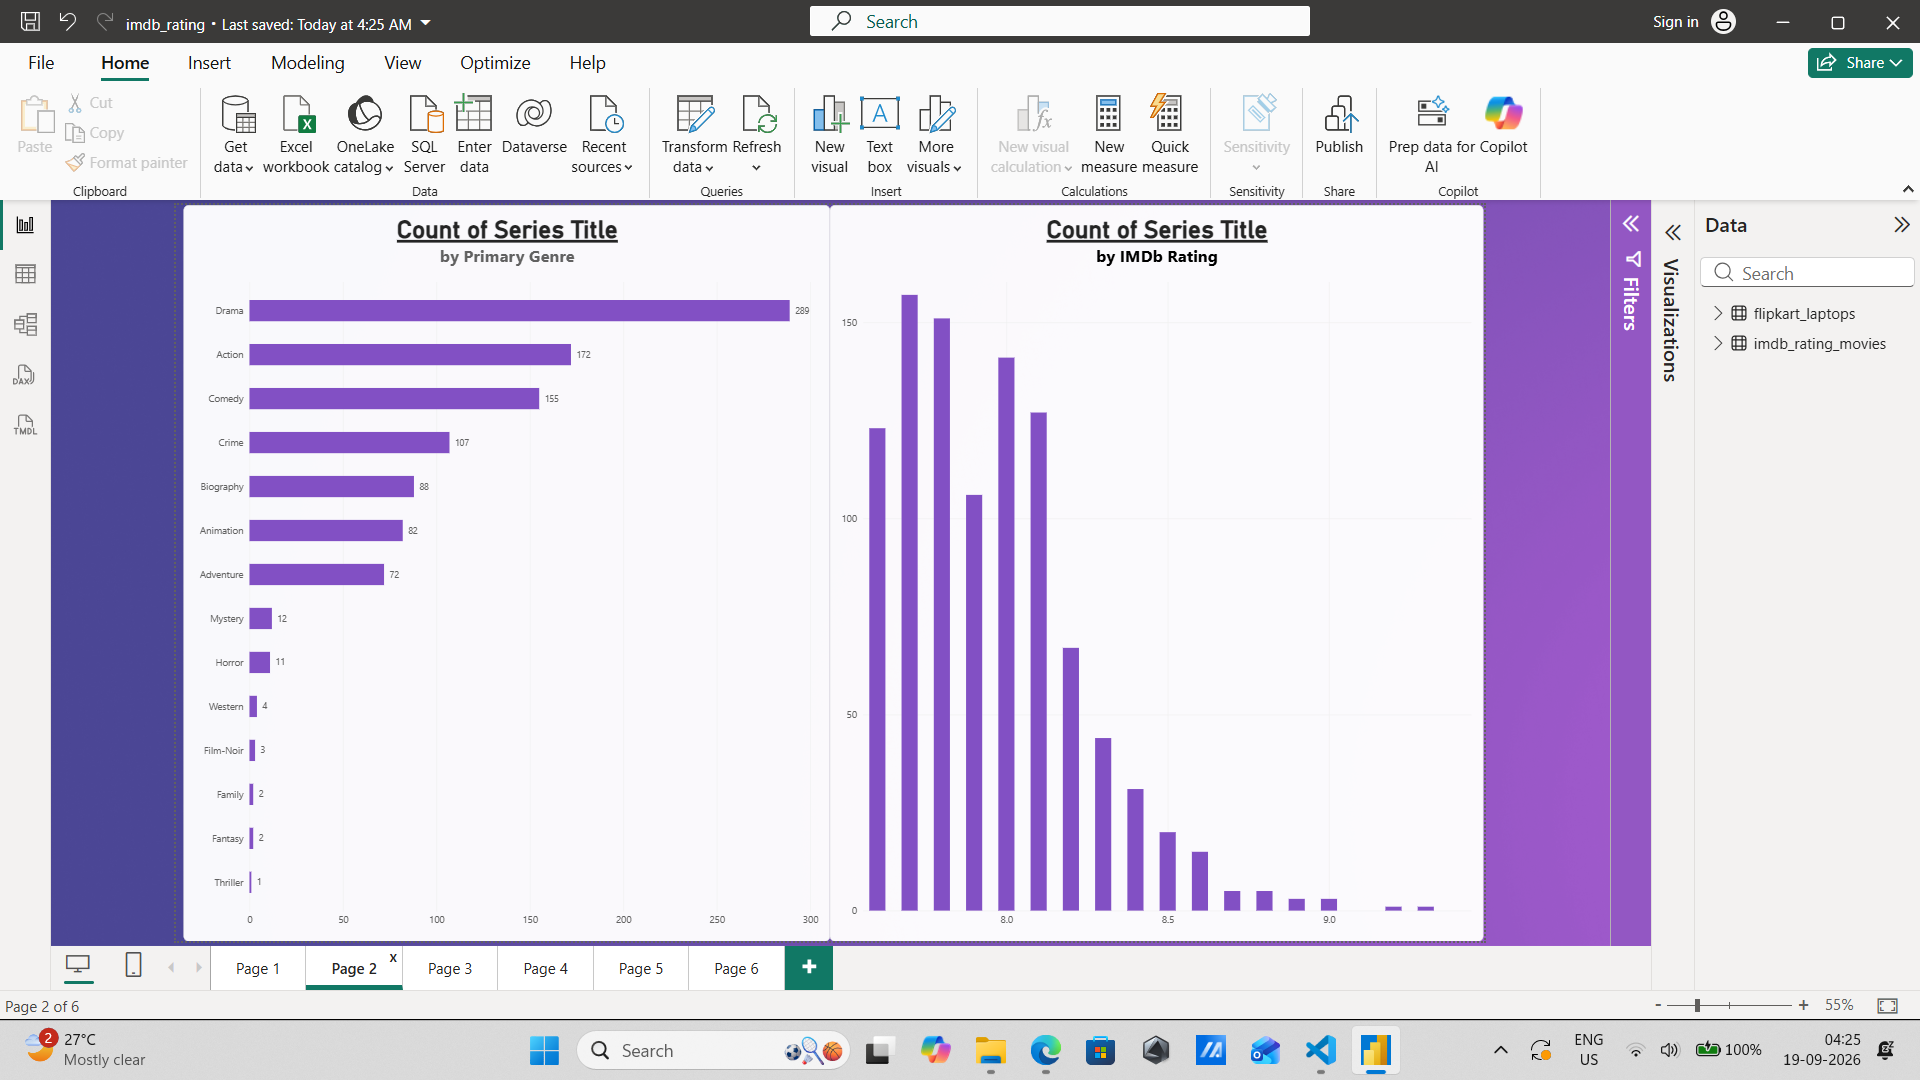

This screenshot's page, from the dashboard's own definition file:
{"tool":"powerbi","page":{"name":"Page 2","canvas":[1920,1080],"ordinal":1},"visuals":[{"type":"clusteredBarChart","fields":{"Category":["imdb_top_1000_movies_20260911_205646 (2).Primary Genre"],"Y":["CountNonNull(imdb_top_1000_movies_20260911_205646 (2).Series Title)"]},"box":[10.3,0,948.9,1080.6],"z":0},{"type":"clusteredColumnChart","fields":{"Category":["imdb_top_1000_movies_20260911_205646 (2).IMDb Rating"],"Y":["CountNonNull(imdb_top_1000_movies_20260911_205646 (2).Series Title)"]},"box":[959.2,0,959.2,1080.6],"z":1}]}

Visuals, with their boxes on the page's 1920x1080 design canvas (x1, y1, x2, y2). These are canvas units, not pixel positions in the 1920x1080 screenshot, which may show the page scaled, cropped or inside an application window:
clusteredBarChart - imdb_top_1000_movies_20260911_205646 (2).Primary Genre x CountNonNull(imdb_top_1000_movies_20260911_205646 (2).Series Title): bbox(10, 0, 959, 1081)
clusteredColumnChart - imdb_top_1000_movies_20260911_205646 (2).IMDb Rating x CountNonNull(imdb_top_1000_movies_20260911_205646 (2).Series Title): bbox(959, 0, 1918, 1081)
